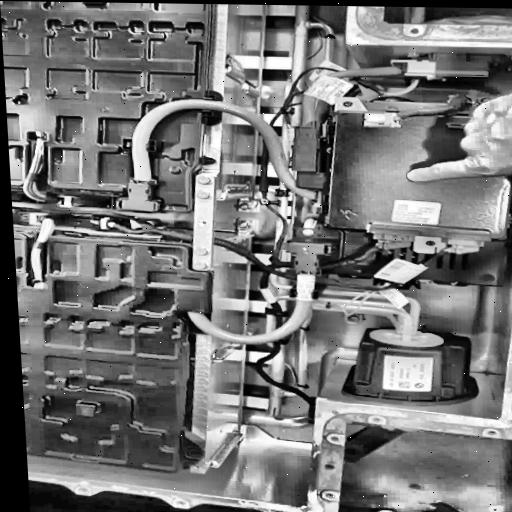high_volt_cable: (108, 59, 415, 215), (175, 239, 333, 348)
low_volt_cable: (16, 134, 487, 298)
nut: (193, 174, 213, 184), (194, 188, 212, 199), (192, 260, 208, 269), (194, 247, 208, 255)
